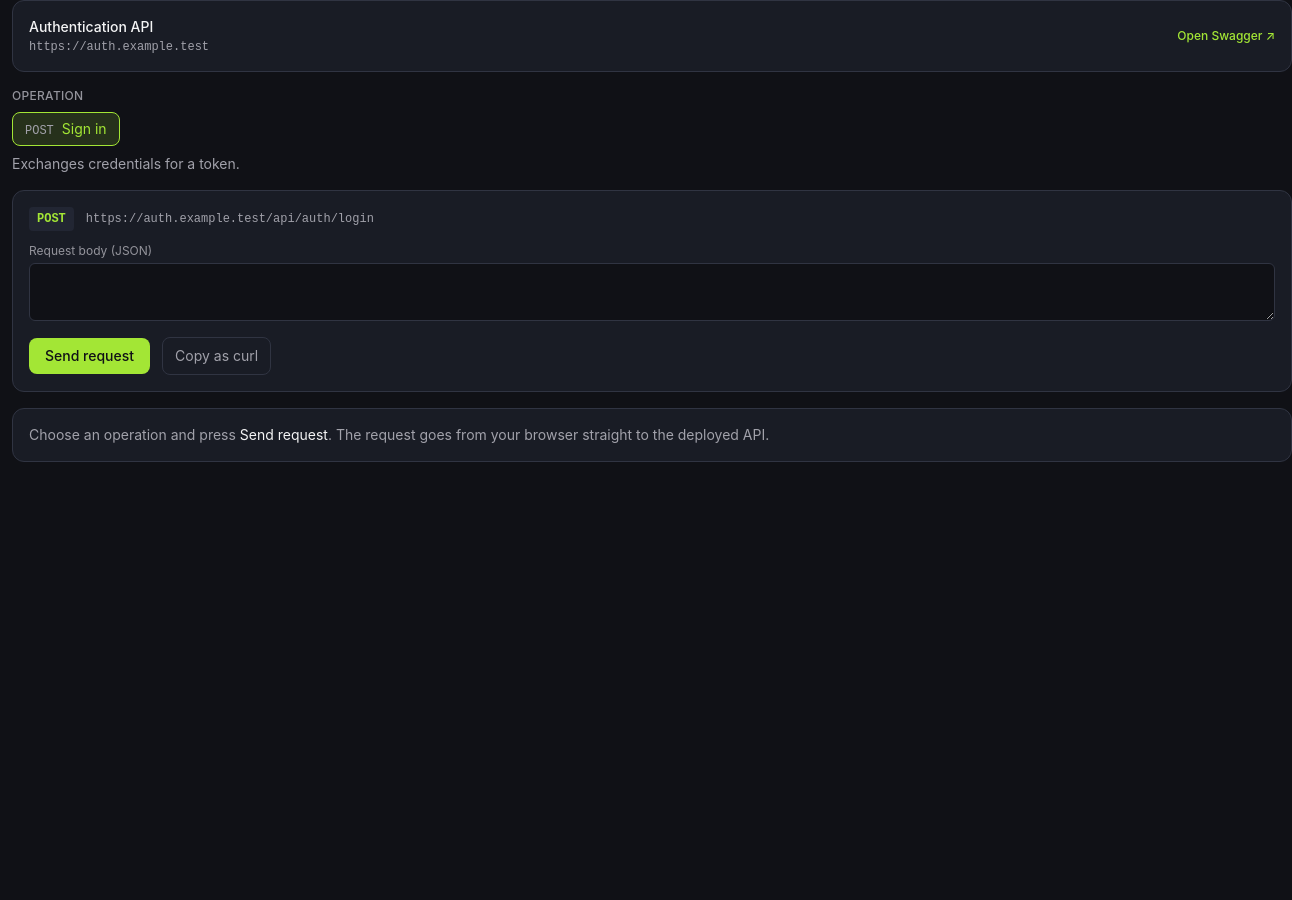
the shared session › captures a token from a sign-in and offers it to the other services
The width and height of the screenshot is (1292, 900).
Click the button "Send request": (90, 356) [29, 338, 150, 374]
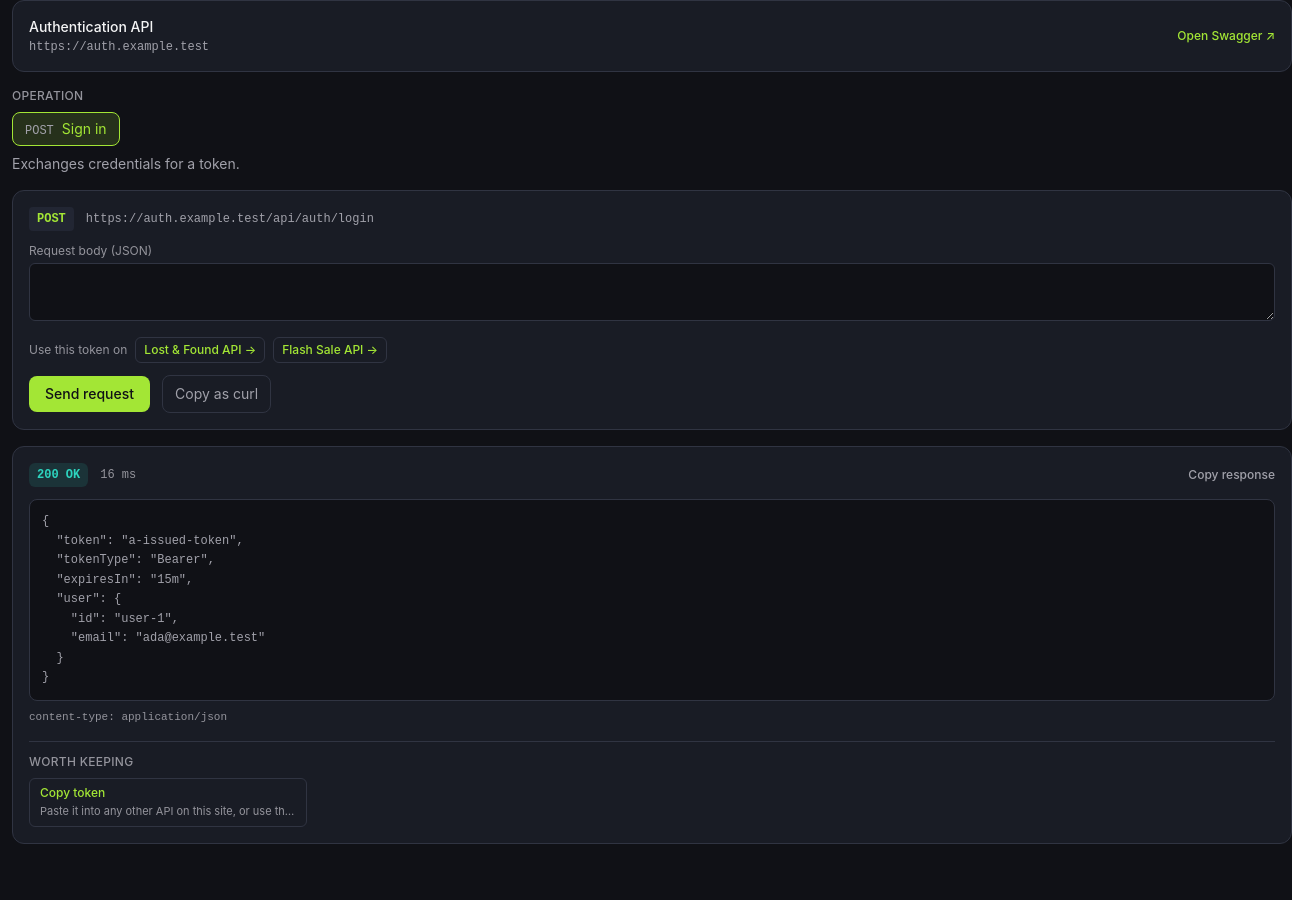
Result: the text "200 OK" is shown at [29, 463, 88, 487]
Result: the button "Copy token" is shown at [29, 778, 307, 826]
